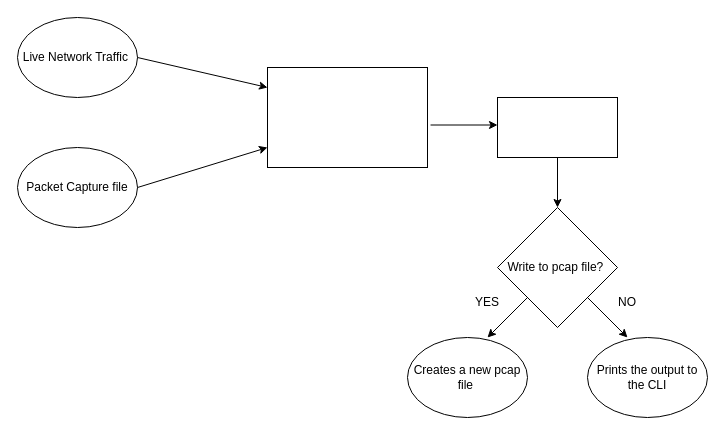
Some shapes in this 725 by 435 pixel diagram are drawn without their labels. Each missing label, with the centre of its shape:
"Apply Filters" goes at pixel 557 127.
"Parse the network traffic data" goes at pixel 347 117.
